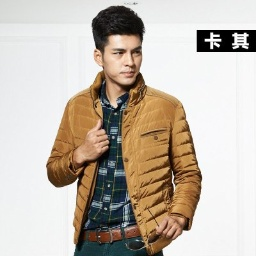face: (91, 5, 145, 87)
